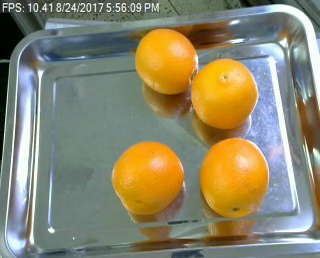Orange: (198, 137, 269, 217), (110, 139, 185, 214), (191, 57, 259, 130), (134, 27, 198, 94)
